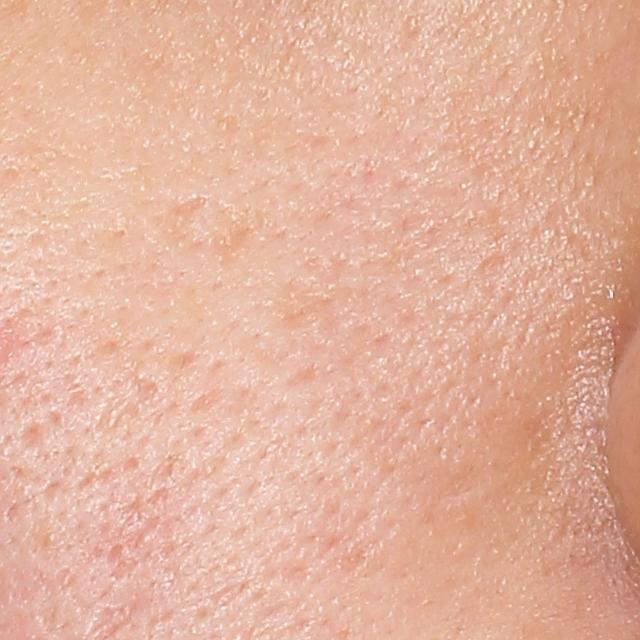atrophic_scar: (102, 540, 140, 589), (160, 193, 205, 229), (15, 419, 46, 460)
